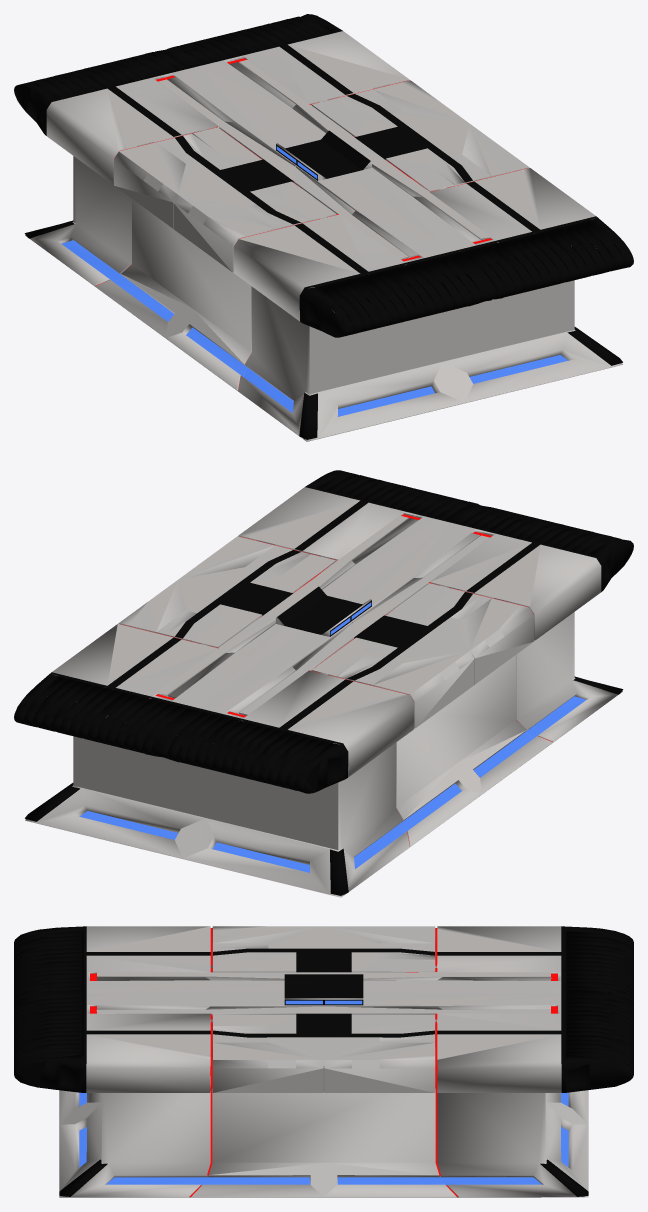
Rendered from sci-fi_table.glb.
3 views of the same model, one above another, from view 1: azimuth 30°, elevation 25°; view 2: azimuth 150°, elevation 25°; view 3: azimuth 270°, elevation 25° (orthographic). The views are drawn at different scales.
Parts seen in each view (by area): view 1: Cube_0, Cube.001_0, Cube_1, Cube.001_1, Cube.001_2, Cube_3; view 2: Cube_0, Cube.001_0, Cube_1, Cube.001_1, Cube.001_2, Cube_3; view 3: Cube_0, Cube.001_0, Cube_1, Cube.001_1, Cube.001_2, Cube_3, Cube.001_3.
Part boxes in pixels (x1,y1,x2,y2): Cube_0: [46, 31, 596, 321]; Cube.001_0: [25, 101, 622, 441]; Cube_1: [14, 14, 633, 337]; Cube.001_1: [61, 240, 568, 416]; Cube.001_2: [24, 220, 622, 439]; Cube_3: [114, 58, 527, 261]; Cube_0: [52, 487, 601, 777]; Cube.001_0: [25, 556, 622, 897]; Cube_1: [14, 470, 633, 793]; Cube.001_1: [79, 696, 586, 872]; Cube.001_2: [25, 676, 623, 895]; Cube_3: [120, 514, 533, 717]; Cube_0: [86, 926, 561, 1092]; Cube.001_0: [59, 965, 588, 1197]; Cube_1: [14, 926, 633, 1092]; Cube.001_1: [79, 1092, 568, 1185]; Cube.001_2: [59, 1159, 588, 1196]; Cube_3: [90, 928, 557, 1088]; Cube.001_3: [189, 1088, 457, 1196].
Bounding box in the file's own units: 6.2 × 2.74 × 11.06.
